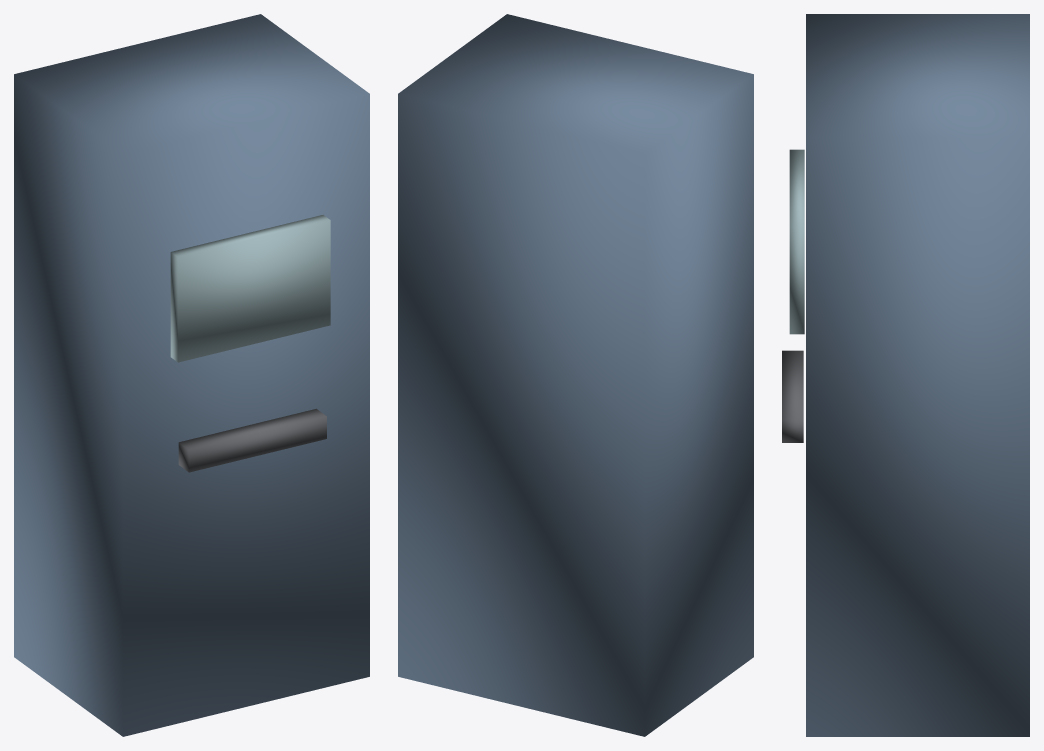
File: information_kiosk__reinforced.glb
The picture shows the model from 3 angles, left to right: view 1: azimuth 30°, elevation 25°; view 2: azimuth 150°, elevation 25°; view 3: azimuth 270°, elevation 25°; orthographic projection. The views are drawn at different scales.
Visible parts, largest first — view 1: world; view 2: world; view 3: world.
Boxes of the visible parts, left/top/right/bottom form: world: left=14, top=14, right=369, bottom=736; world: left=398, top=14, right=753, bottom=736; world: left=782, top=14, right=1029, bottom=736.
Bounding box in the file's own units: 0.7004 × 1.58 × 0.5922.
